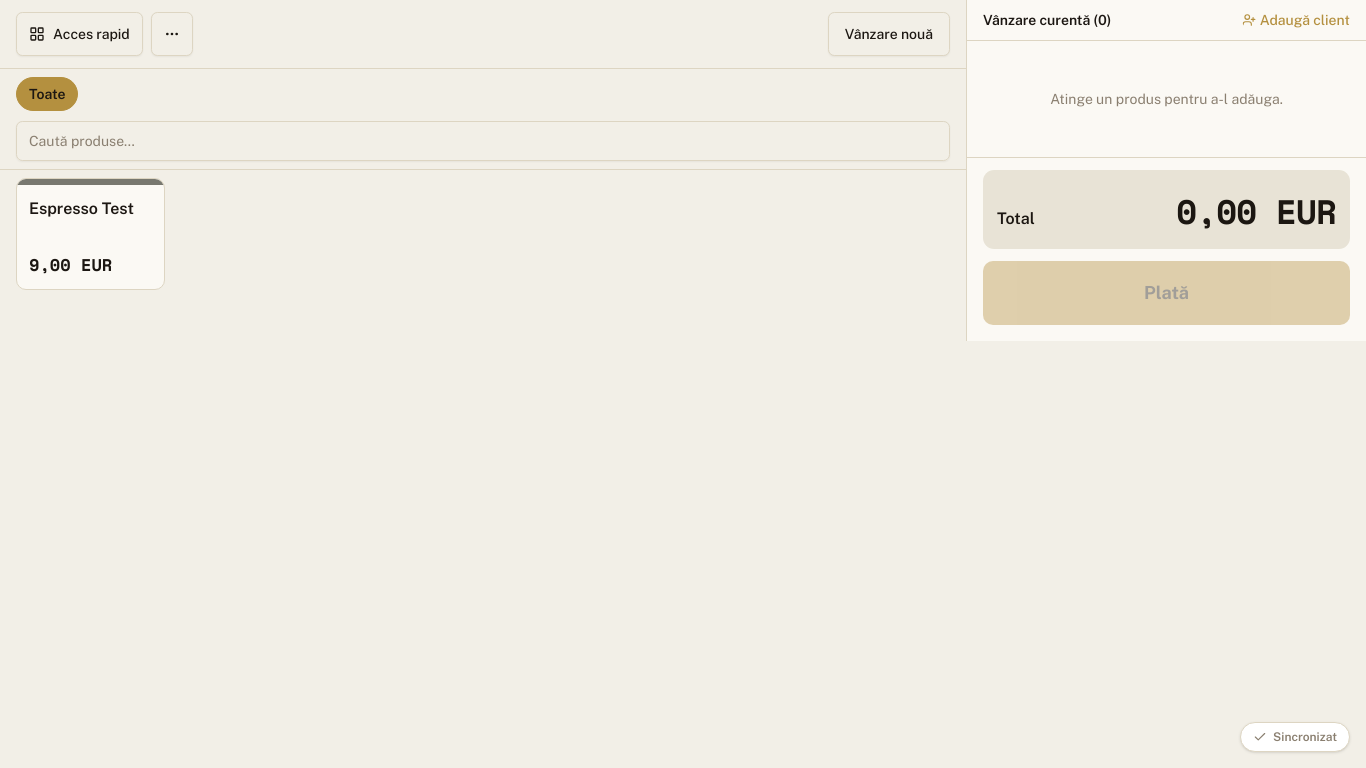
Test: PosRegister single Plată button › shows one Plată button and no Numerar/Card tiles on the order step
Step 1. Click the text "Espresso Test" → (81, 209), box [29,197,134,221]
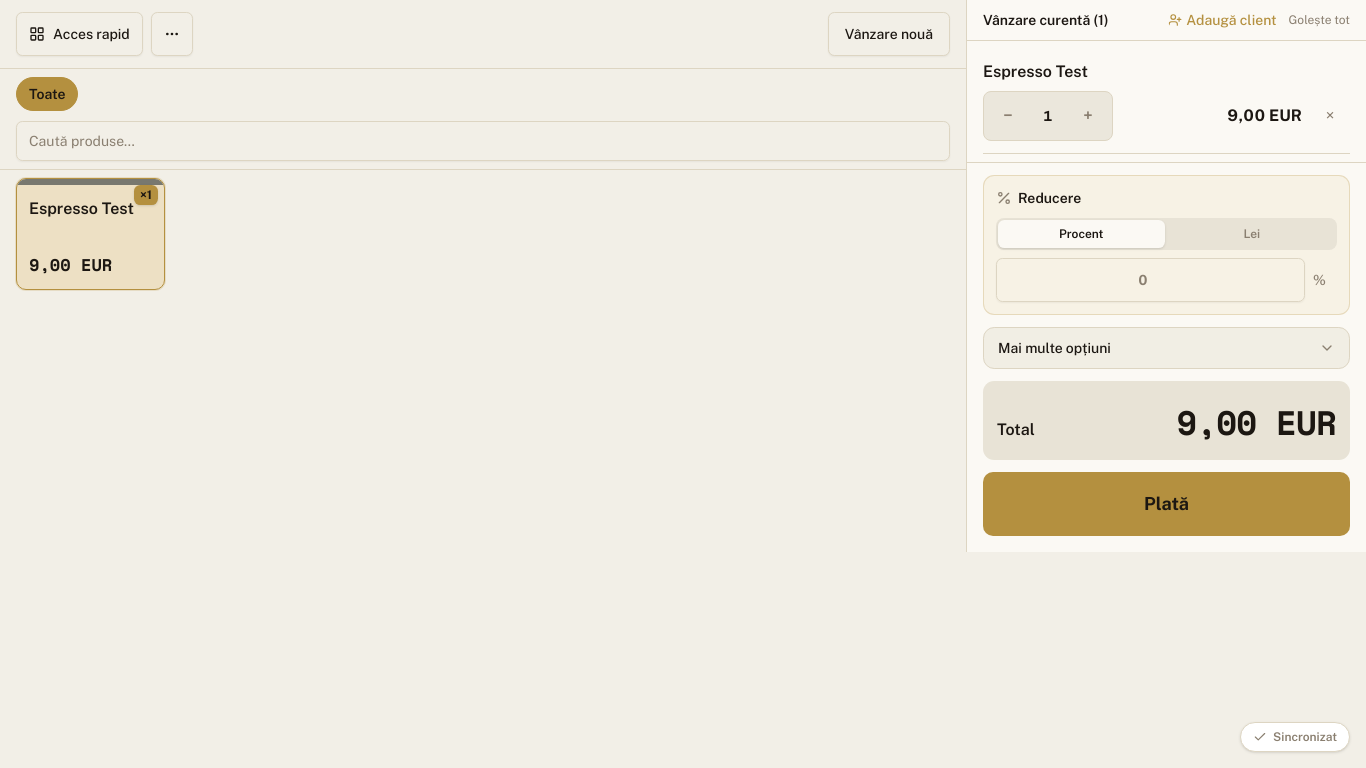
expect the number of buttons "Plată" is 1: met, box [983,472,1350,536]
expect the button "Plată" is enabled: met, box [983,472,1350,536]
